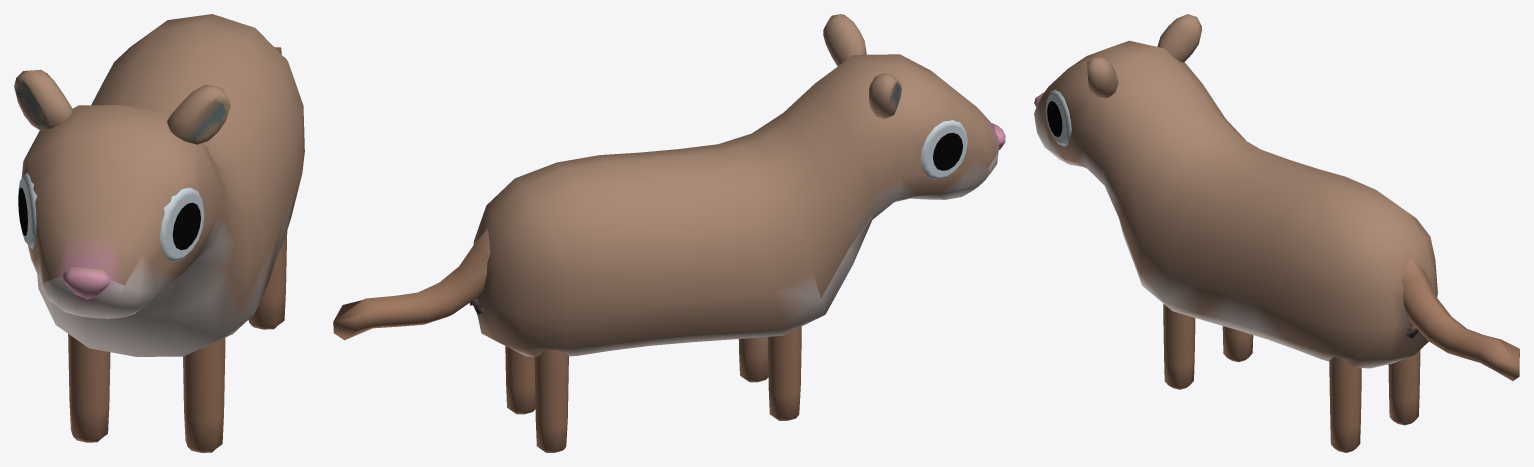
Rendered from Cougar.glb.
3 views of the same model, side by side, from view 1: azimuth 30°, elevation 25°; view 2: azimuth 150°, elevation 25°; view 3: azimuth 270°, elevation 25° (orthographic). The views are drawn at different scales.
Visible parts, largest first — view 1: 31; view 2: 31; view 3: 31.
Part boxes in pixels (left/top/right/bottom): 31: left=14, top=14, right=304, bottom=452; 31: left=333, top=14, right=1005, bottom=452; 31: left=1034, top=14, right=1519, bottom=452.
Size of the model in its own units: 1.05 by 0.811 by 1.15.
